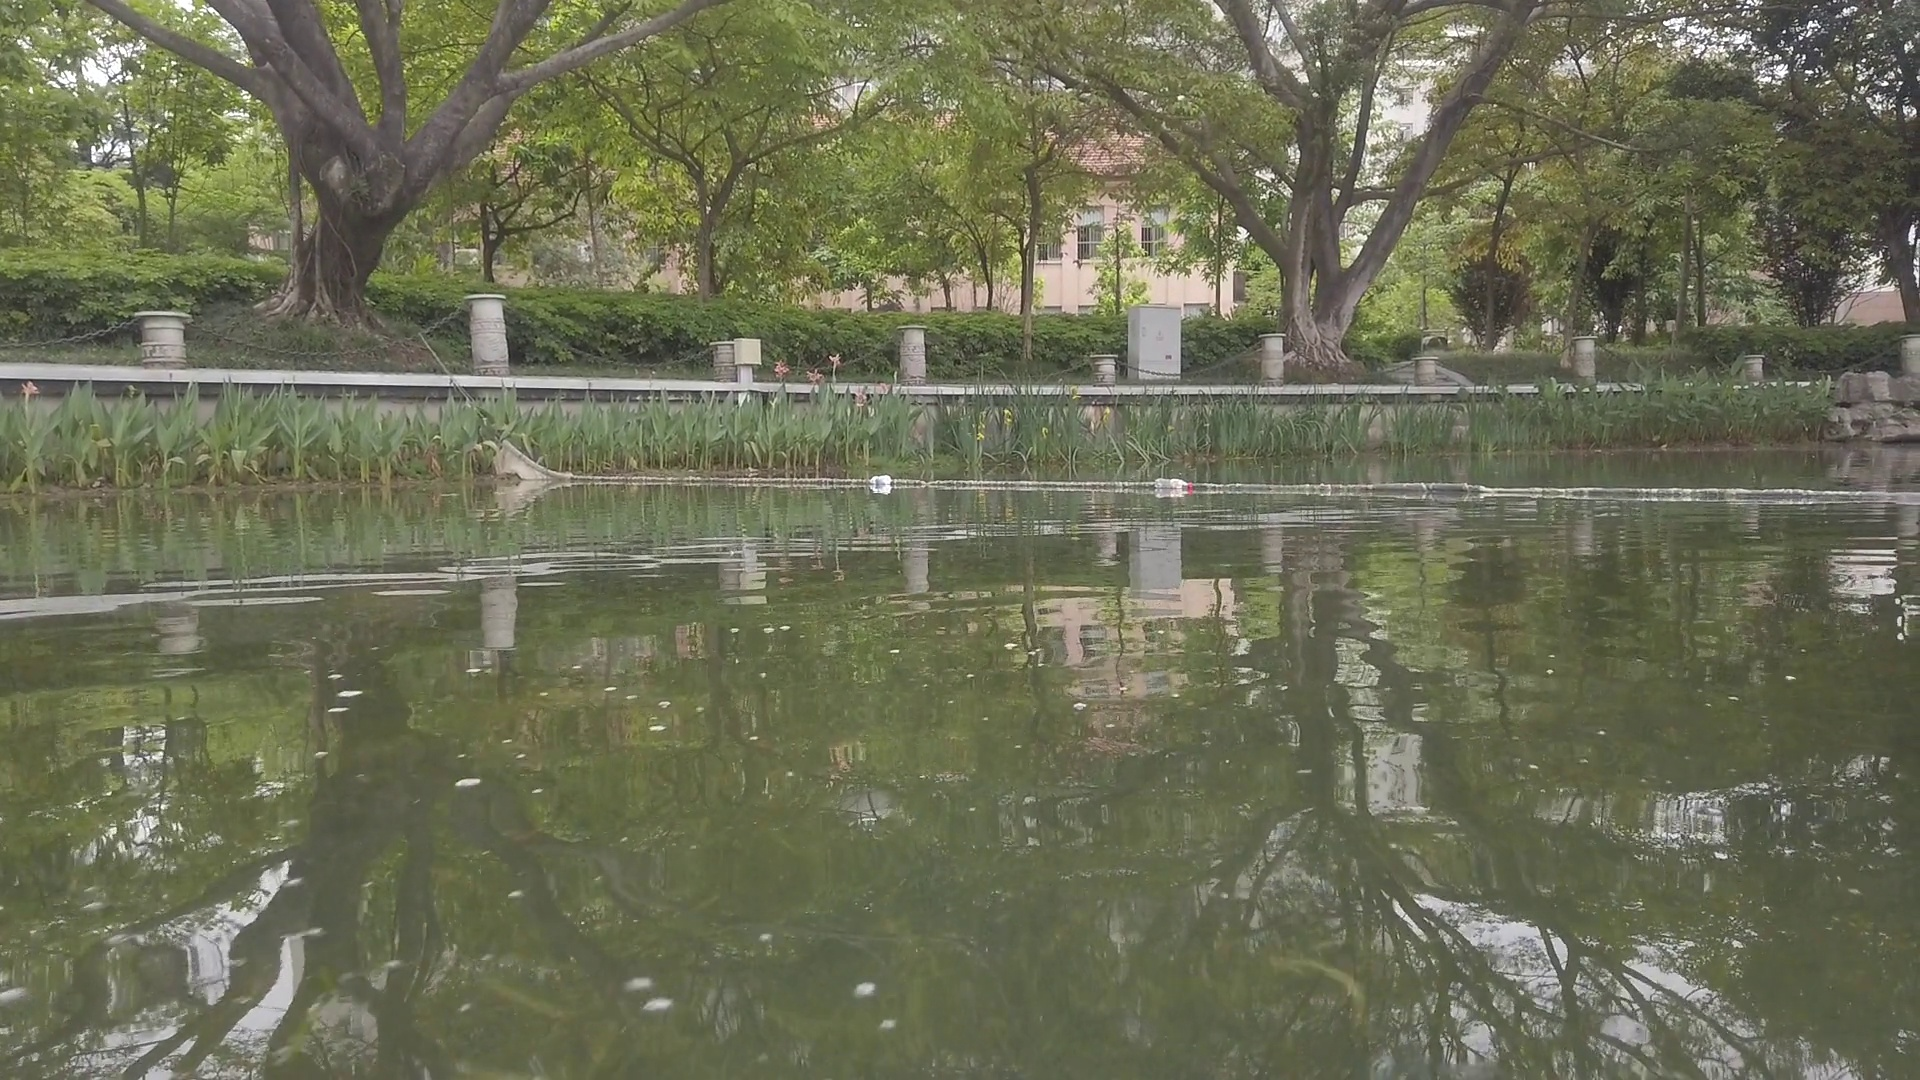bottle: (1155, 477, 1192, 492), (870, 476, 891, 485)
